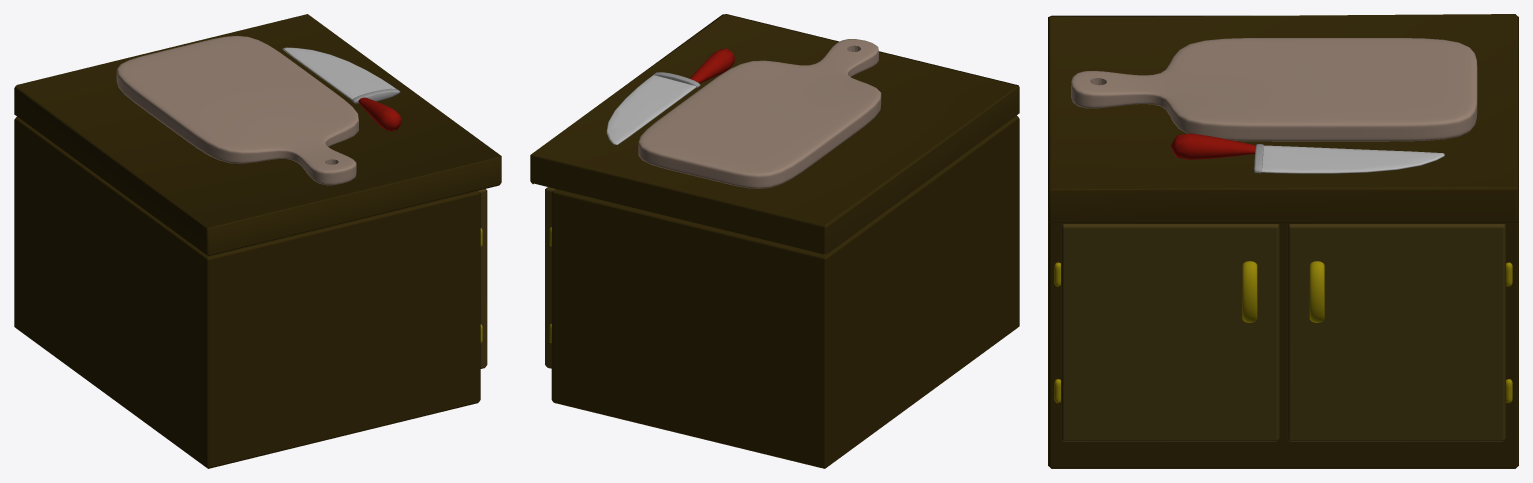
File: CuttingCounter.fbx
The picture shows the model from 3 angles, left to right: view 1: azimuth 30°, elevation 25°; view 2: azimuth 150°, elevation 25°; view 3: azimuth 270°, elevation 25°; orthographic projection. The views are drawn at different scales.
Parts seen in each view (by area): view 1: Plane.002, Plane, Plane.003, Plane.001; view 2: Plane.002, Plane, Plane.003, Plane.001; view 3: Plane.001, Plane.002, Plane, Plane.003.
Part boxes in pixels (left/top/right/bottom): Plane.002: left=14, top=14, right=501, bottom=468; Plane: left=116, top=36, right=358, bottom=185; Plane.003: left=282, top=47, right=401, bottom=131; Plane.001: left=478, top=189, right=487, bottom=368; Plane.002: left=530, top=14, right=1019, bottom=468; Plane: left=638, top=39, right=881, bottom=188; Plane.003: left=606, top=48, right=734, bottom=144; Plane.001: left=545, top=187, right=554, bottom=368; Plane.001: left=1054, top=224, right=1512, bottom=441; Plane.002: left=1048, top=14, right=1518, bottom=468; Plane: left=1071, top=38, right=1477, bottom=141; Plane.003: left=1170, top=133, right=1444, bottom=173.
Size of the model in its own units: 116 by 95.99 by 130.
